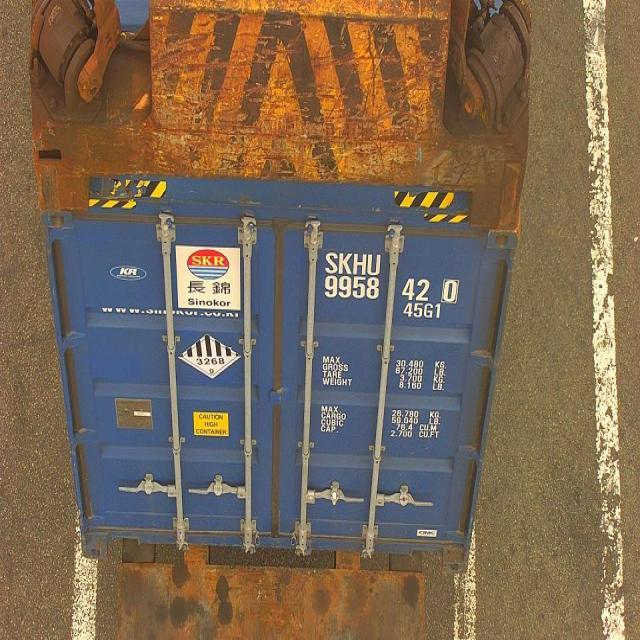ISO: (403, 301, 446, 321)
container_number: (324, 254, 464, 303)
